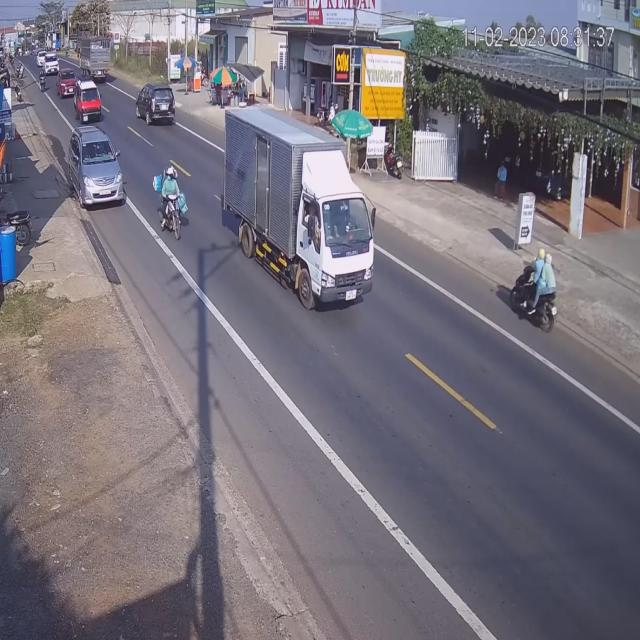car: (67, 127, 124, 210), (134, 83, 176, 127), (74, 80, 102, 124), (58, 63, 79, 99), (42, 53, 58, 77)
motorbike: (512, 248, 562, 332), (160, 166, 190, 242)
truck: (220, 100, 375, 307), (77, 37, 112, 80)
